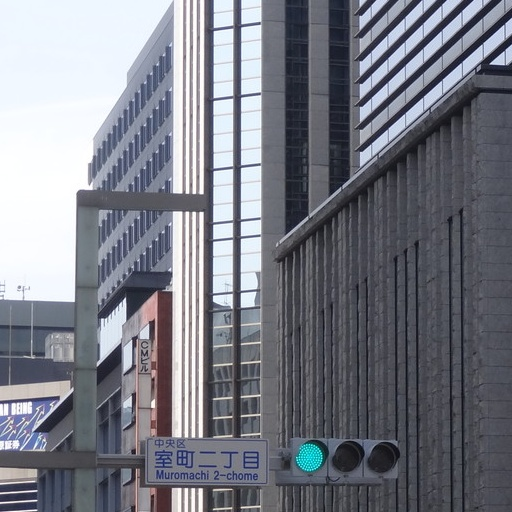Traffic_Signal_Blue: (279, 432, 404, 481)
